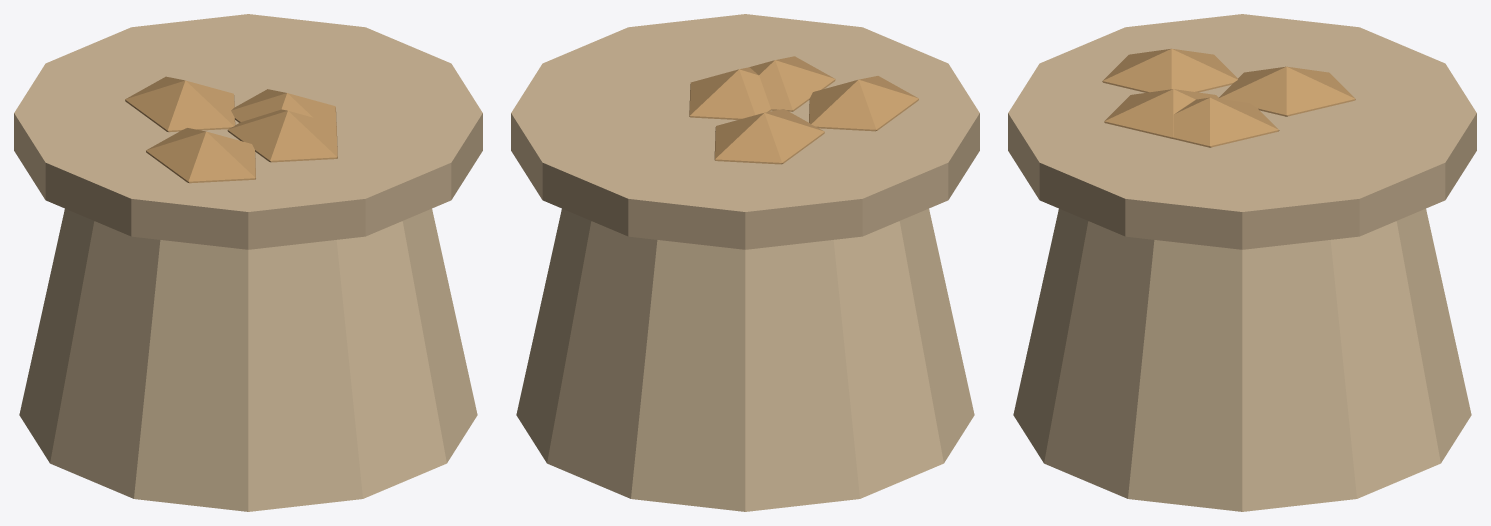
Rendered from basket.glb.
3 renders of one model, left to right at view 1: azimuth 30°, elevation 25°; view 2: azimuth 150°, elevation 25°; view 3: azimuth 270°, elevation 25°, orthographic.
Visible parts, largest first — view 1: basket; view 2: basket; view 3: basket.
Boxes of the visible parts, bbox=[...] form: basket: bbox=[14, 14, 482, 511]; basket: bbox=[511, 14, 979, 511]; basket: bbox=[1008, 14, 1476, 511].
Size of the model in its own units: 0.45 by 0.348 by 0.45.
